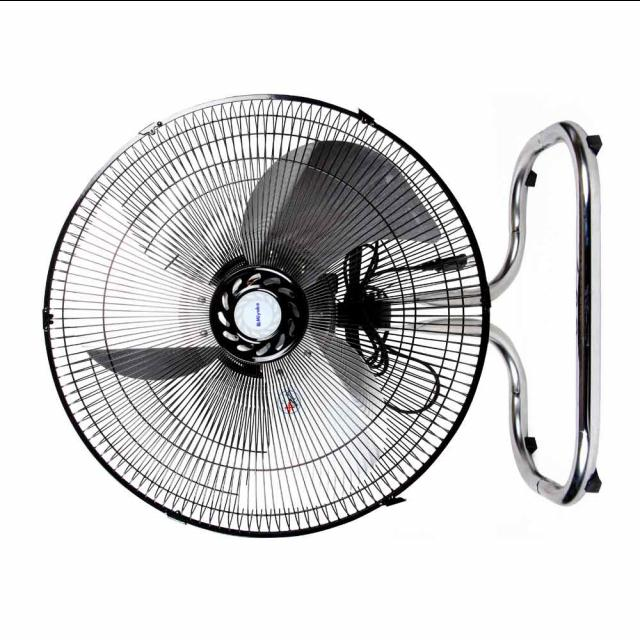fan: (39, 94, 614, 542)
